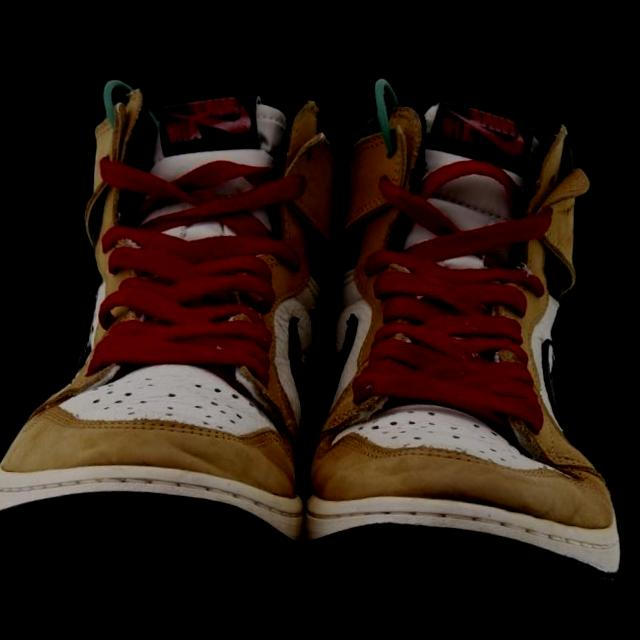nike_original_jordan: (295, 71, 640, 606), (0, 64, 351, 571)
